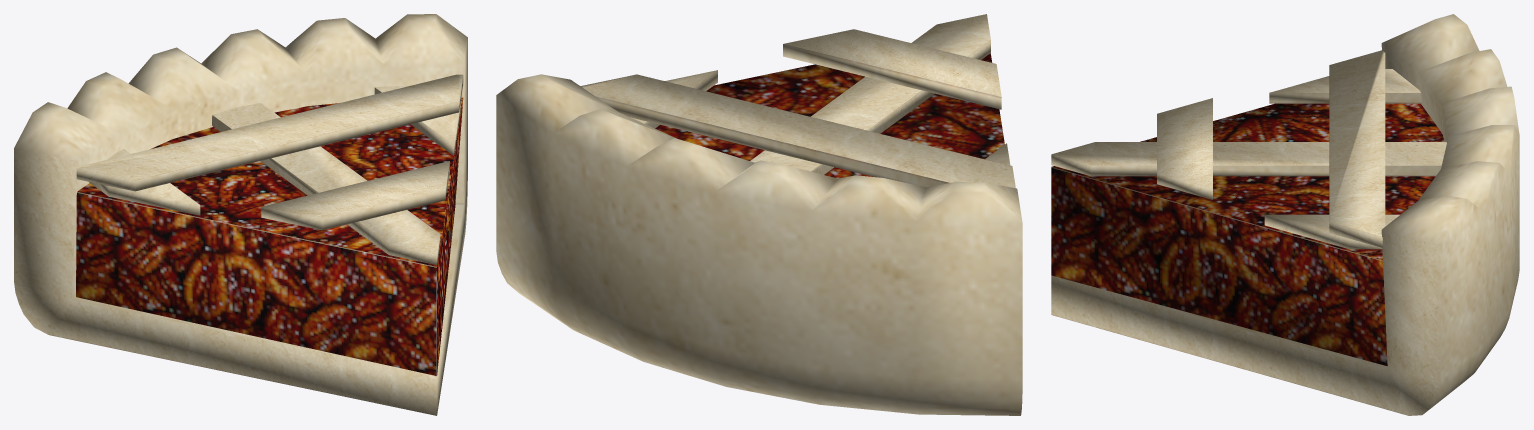
The model's file is VFX_PieSliceLattice.fbx.
The picture shows the model from 3 angles, left to right: view 1: azimuth 30°, elevation 25°; view 2: azimuth 150°, elevation 25°; view 3: azimuth 270°, elevation 25°; orthographic projection. The views are drawn at different scales.
Visible parts, largest first — view 1: Pie Slice Lattice; view 2: Pie Slice Lattice; view 3: Pie Slice Lattice.
Part boxes in pixels (x1,y1,x2,y2): Pie Slice Lattice: [14, 14, 467, 415]; Pie Slice Lattice: [496, 14, 1022, 415]; Pie Slice Lattice: [1051, 14, 1519, 415].
Size of the model in its own units: 0.12 by 0.0516 by 0.108.
